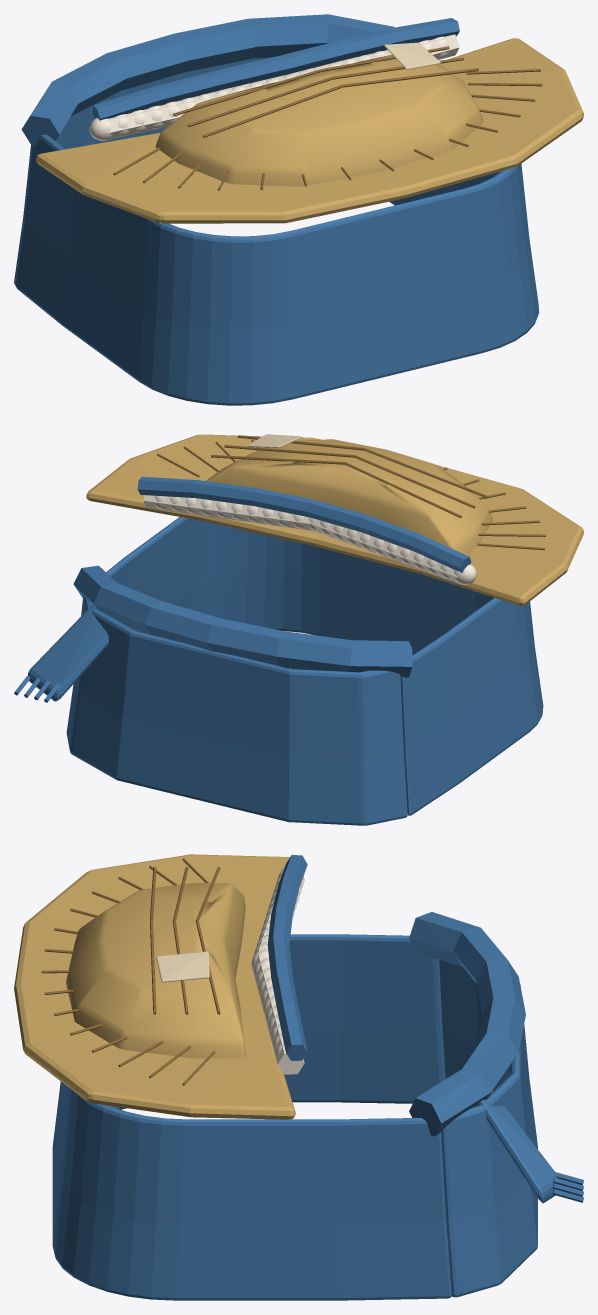
Rendered from winter_peasant.fbx.
3 views of the same model, one above another, from view 1: azimuth 30°, elevation 25°; view 2: azimuth 150°, elevation 25°; view 3: azimuth 270°, elevation 25° (orthographic). The views are drawn at different scales.
Parts seen in each view (by area): view 1: winter_peasant_armor; view 2: winter_peasant_armor; view 3: winter_peasant_armor.
Part boxes in pixels (x1,y1,x2,y2): winter_peasant_armor: (14, 14, 583, 405); winter_peasant_armor: (14, 434, 583, 825); winter_peasant_armor: (14, 854, 583, 1300).
Bounding box in the file's own units: 5.28 × 2.75 × 4.98.
1 material, 1 textured.
